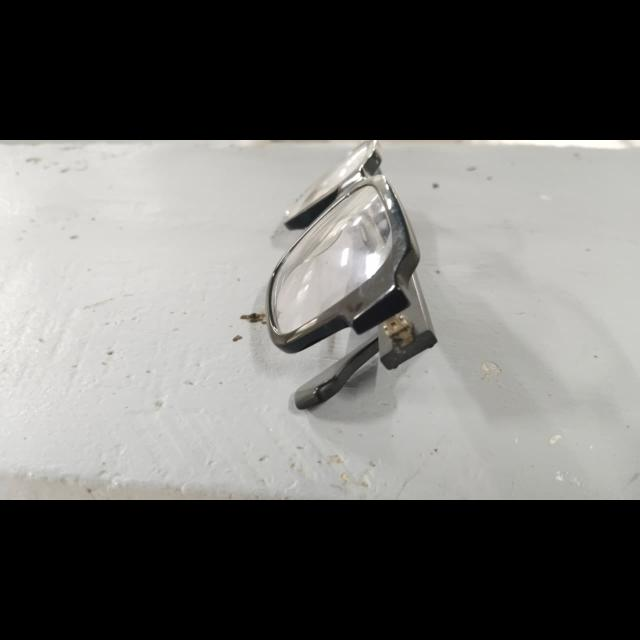glasses: (260, 150, 446, 406)
